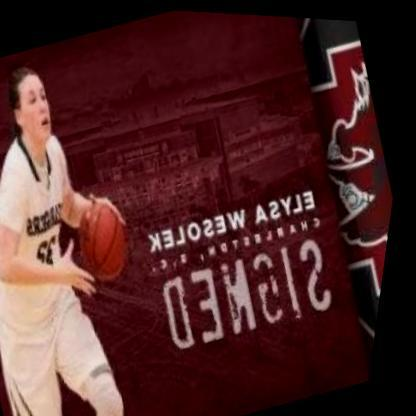basketball: (67, 185, 155, 289)
